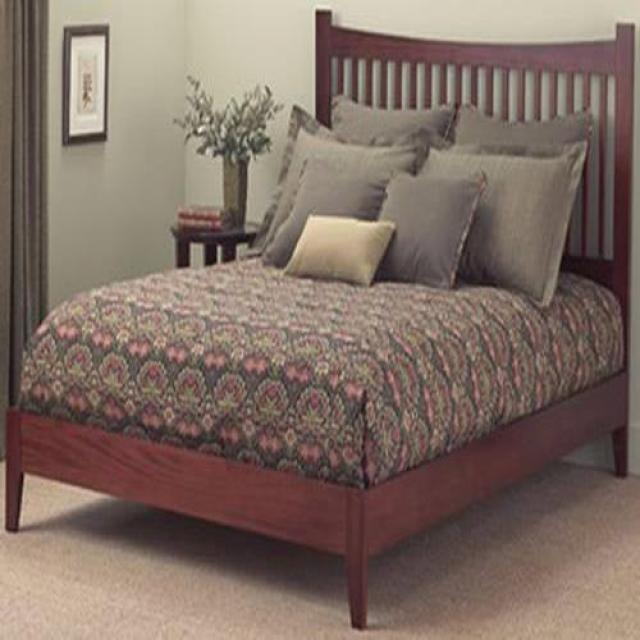bed: (5, 10, 639, 632)
